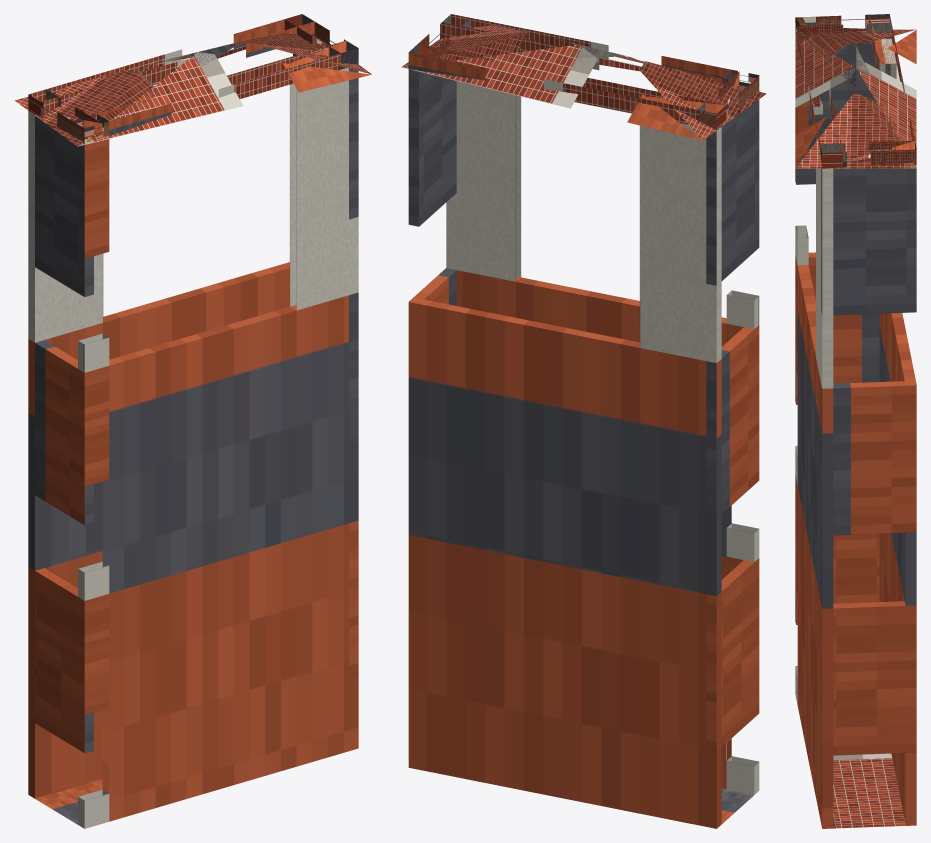
3 views of the same model, side by side, from view 1: azimuth 30°, elevation 25°; view 2: azimuth 150°, elevation 25°; view 3: azimuth 270°, elevation 25° (orthographic). The views are drawn at different scales.
Visible parts, largest first — view 1: 238625205__wall_3_xb, 238625205__wall_0_xb, 238625205__wall_1_xb, 238625205__wall_2_xb, 238625205_roof_front_xb, 238625205__wall_4_xb, 238625205_roof_left_xb, 238625205__cornice_3, 238625205__cornice_0, 238625205_roof_right_xb, 238625205__base, 238625205__cornice_4 (+1 smaller); view 2: 238625205__wall_0_xb, 238625205__wall_1_xb, 238625205__wall_3_xb, 238625205__wall_4_xb, 238625205_roof_back_xb, 238625205__cornice_0, 238625205__wall_2_xb, 238625205_roof_left_xb, 238625205__cornice_3, 238625205_roof_right_xb, 238625205__cornice_1; view 3: 238625205__wall_4_xb, 238625205__wall_3_xb, 238625205__wall_1_xb, 238625205__wall_0_xb, 238625205__base, 238625205_roof_right_xb, 238625205_roof_front_xb, 238625205_roof_back_xb, 238625205__wall_2_xb, 238625205_roof_left_xb, 238625205__cornice_4, 238625205__cornice_1 (+3 smaller).
Part boxes in pixels (x1,y1,x2,y2): 238625205__wall_3_xb: (102,68,358,821); 238625205__wall_0_xb: (28,111,289,798); 238625205__wall_1_xb: (35,116,93,752); 238625205__wall_2_xb: (78,139,109,828); 238625205_roof_front_xb: (78,52,371,146); 238625205__wall_4_xb: (293,53,358,675); 238625205_roof_left_xb: (15,41,242,146); 238625205__cornice_3: (97,41,358,135); 238625205__cornice_0: (28,14,314,117); 238625205_roof_right_xb: (156,33,371,74); 238625205__base: (35,779,102,824); 238625205__cornice_4: (284,14,358,69); 238625205__wall_0_xb: (408,123,721,828); 238625205__wall_1_xb: (706,99,759,751); 238625205__wall_3_xb: (446,81,731,789); 238625205__wall_4_xb: (408,69,456,305); 238625205_roof_back_xb: (402,44,701,140); 238625205__cornice_0: (408,44,726,129); 238625205__wall_2_xb: (726,290,759,794); 238625205_roof_left_xb: (543,35,766,140); 238625205__cornice_3: (441,14,731,83); 238625205_roof_right_xb: (401,25,626,67); 238625205__cornice_1: (697,71,759,129); 238625205__wall_4_xb: (821,168,916,755); 238625205__wall_3_xb: (797,138,833,828); 238625205__wall_1_xb: (795,42,890,624); 238625205__wall_0_xb: (879,38,916,825); 238625205__base: (833,753,905,828); 238625205_roof_right_xb: (795,46,916,168); 238625205_roof_front_xb: (795,32,854,167); 238625205_roof_back_xb: (857,30,916,167); 238625205__wall_2_xb: (795,101,808,704); 238625205_roof_left_xb: (805,29,915,89); 238625205__cornice_4: (820,141,916,167); 238625205__cornice_1: (795,14,891,38).
Size of the model in its own units: 0.474 by 1.1 by 0.1753.
Materials: 1 (1 with a texture image).
